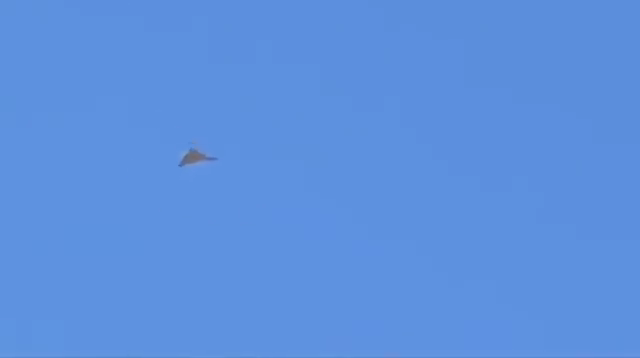shahed: (177, 146, 218, 168)
